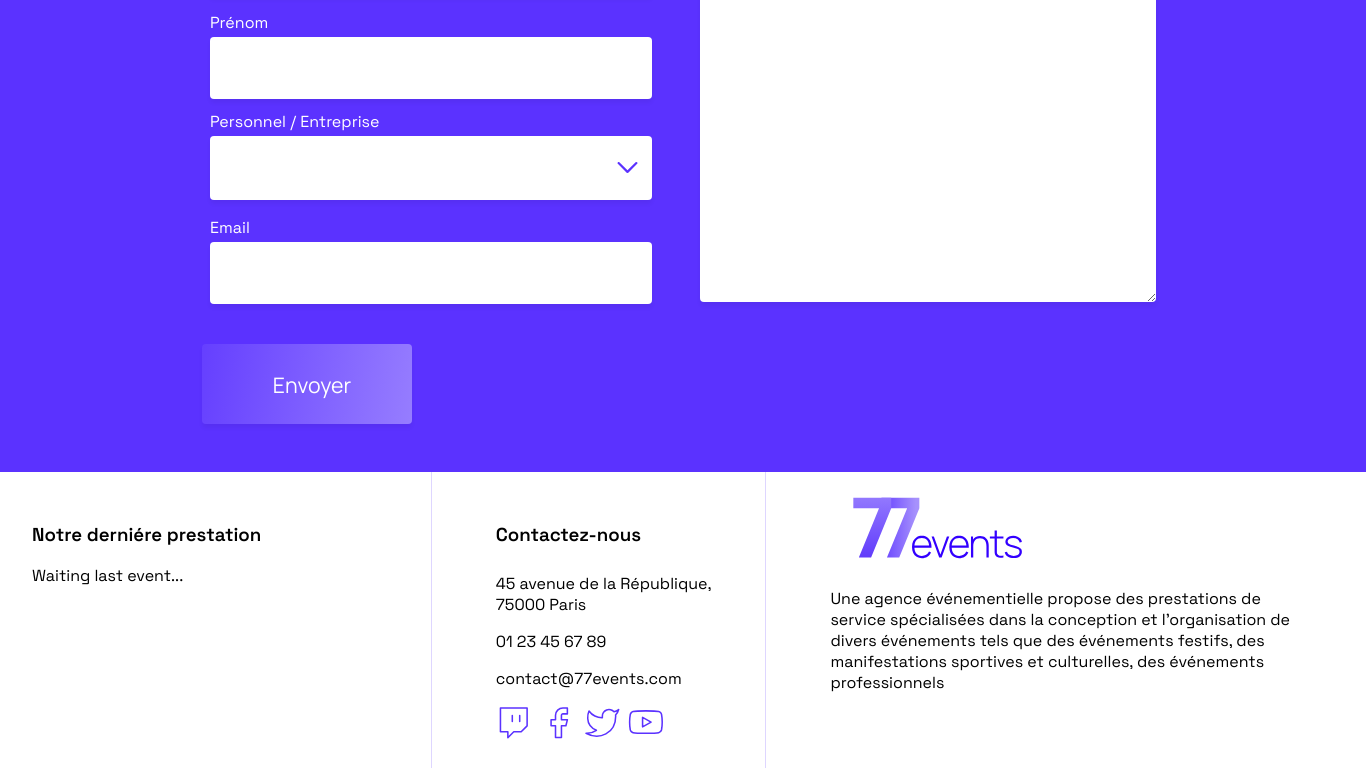
Scenario: When Form is created › and a click is triggered on the submit button › the success message is displayed
(page scrolled)
Click the button "Envoyer" at coordinates (307, 384), box [202,344,412,424]
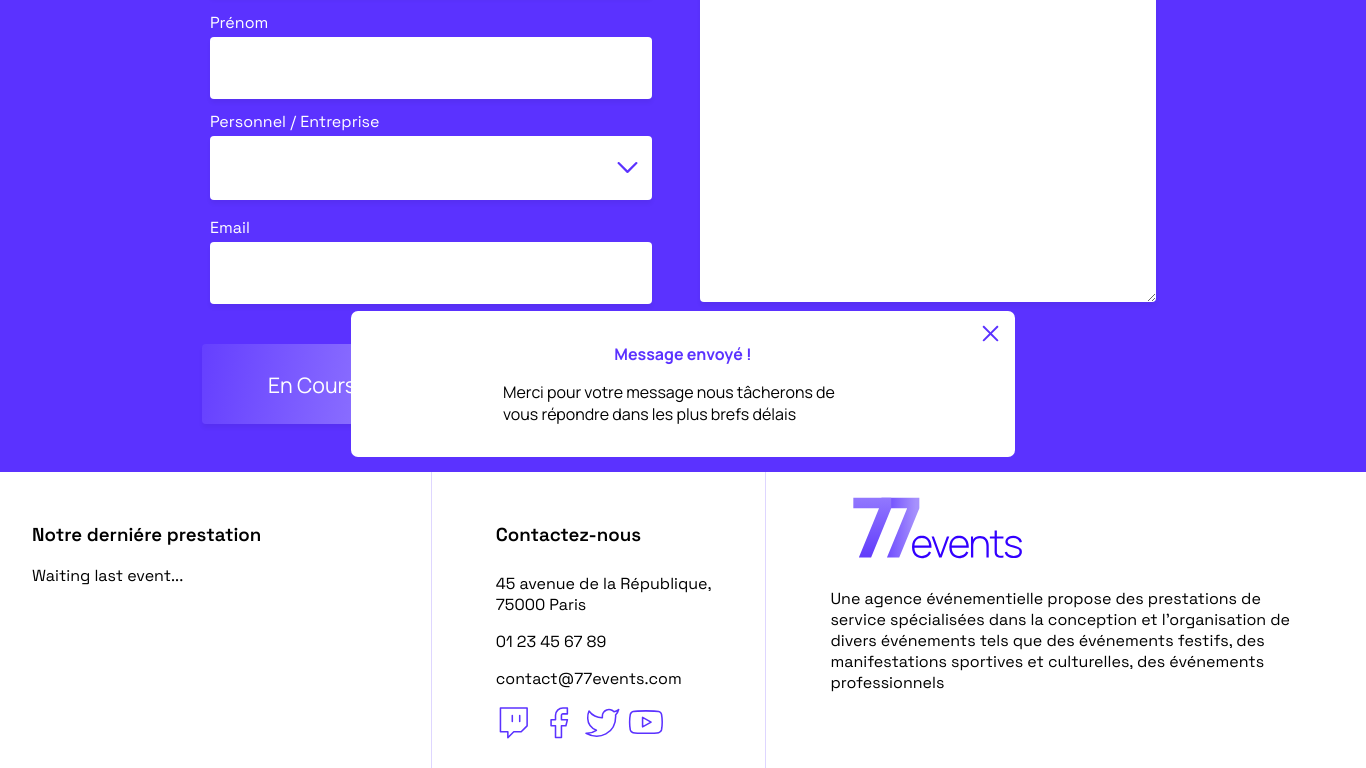
Check: the button "En cours" is shown, box [202,344,412,424]
Check: the text "Message envoyé !" is shown, box [614,343,752,365]
